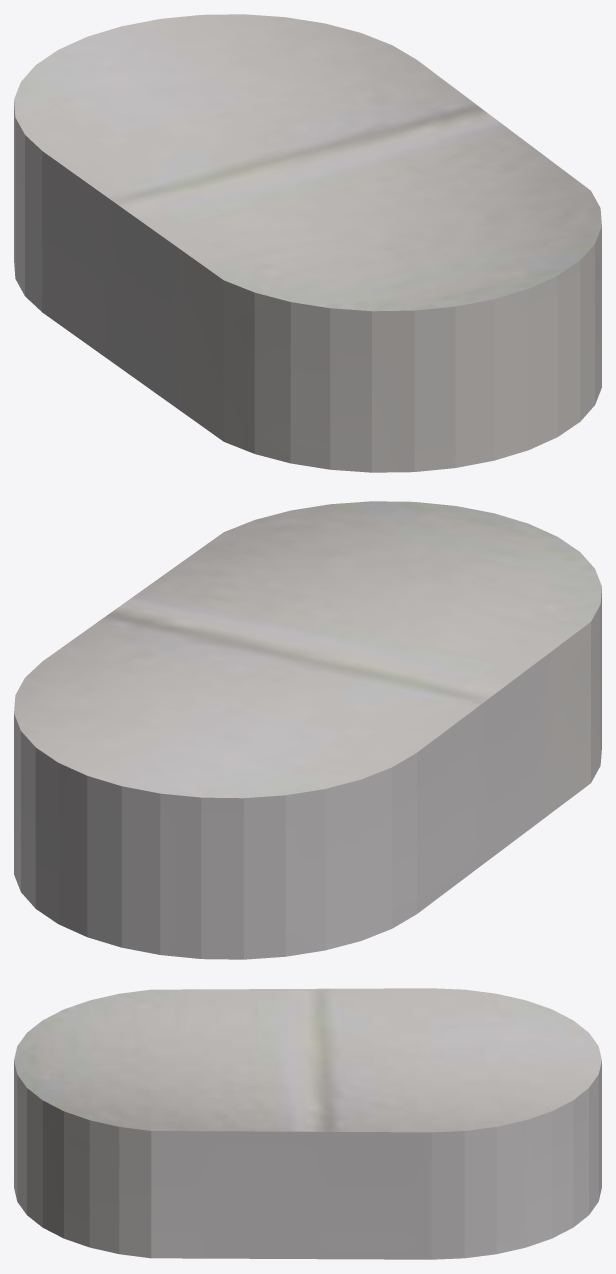
3 renders of one model, top to bottom at view 1: azimuth 30°, elevation 25°; view 2: azimuth 150°, elevation 25°; view 3: azimuth 270°, elevation 25°, orthographic. The views are drawn at different scales.
Parts seen in each view (by area): view 1: 圓柱體; view 2: 圓柱體; view 3: 圓柱體.
Boxes of the visible parts, <box> form: 圓柱體: <box>14,14,601,472</box>; 圓柱體: <box>14,501,601,959</box>; 圓柱體: <box>14,988,601,1259</box>.
Size of the model in its own units: 1.7 by 0.7007 by 2.93.
Materials: 1 (1 with a texture image).
